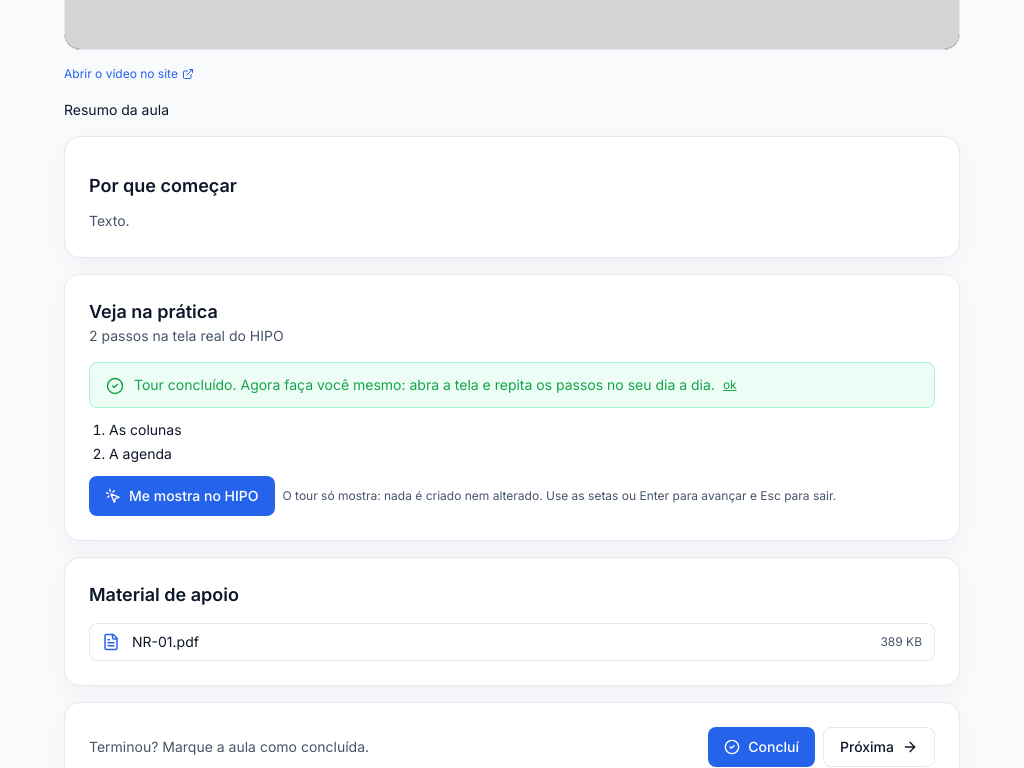
Scenario: Aula da UC › volta do tour com o aviso de concluído
(page scrolled)
Expected: the text "Tour concluído" is shown, [134,376,715,393]
Click the button "ok": (730, 385) [723,377,737,393]
(page scrolled)
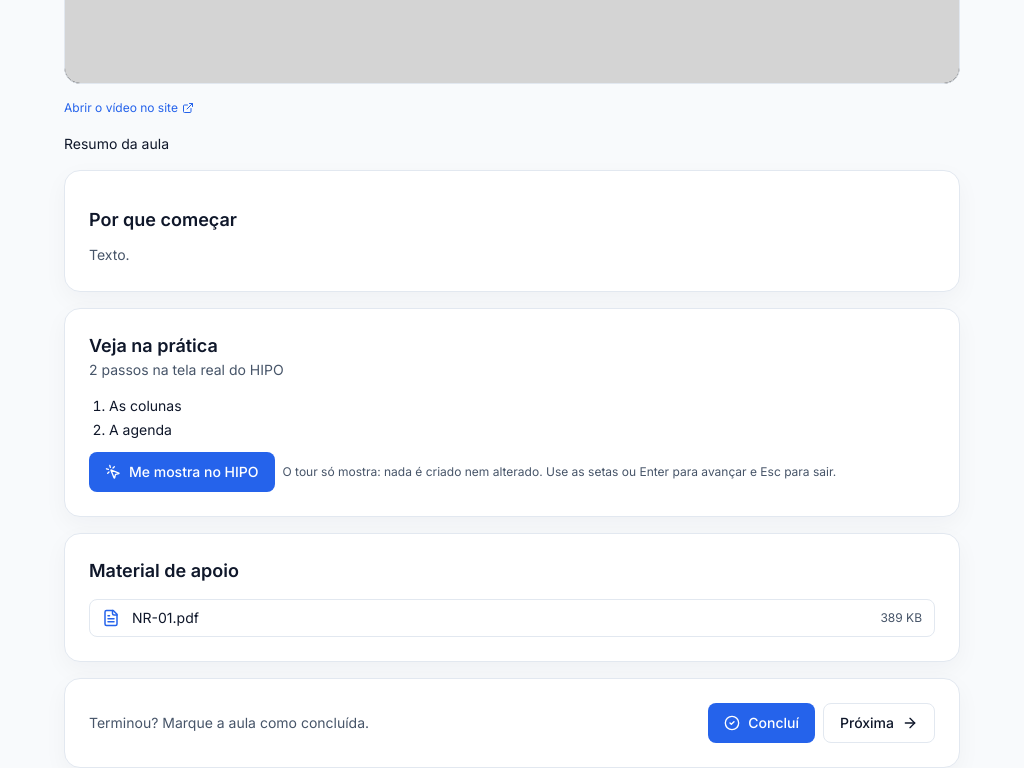
Expected: the text "Tour concluído" is gone
